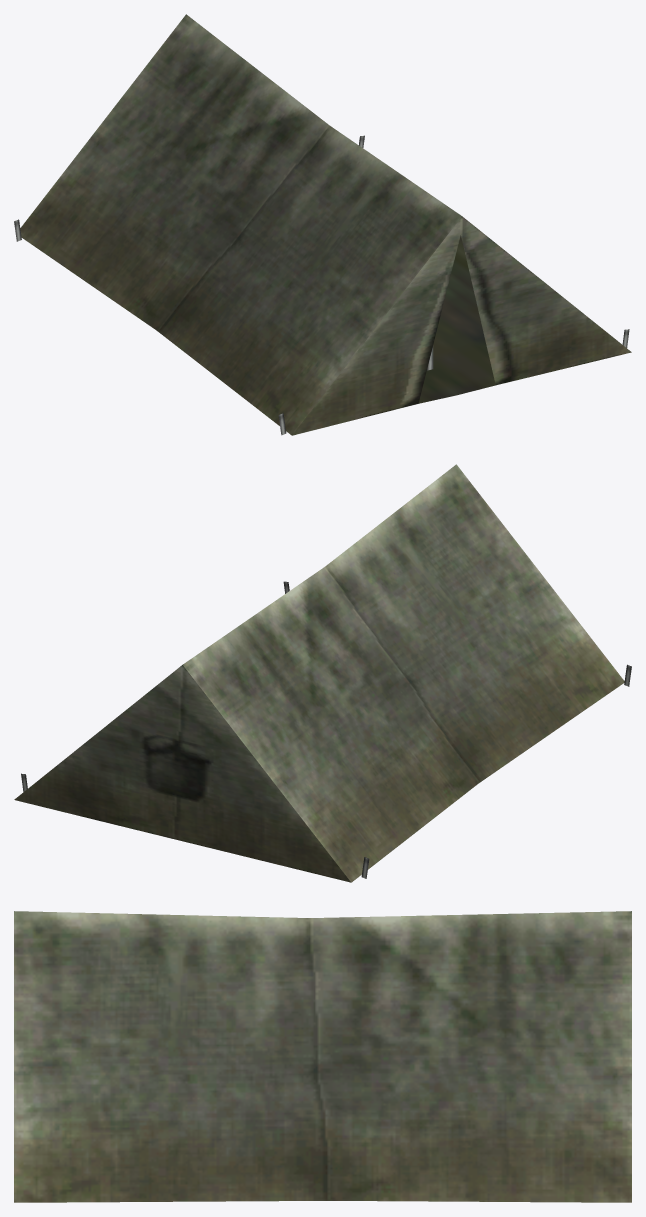
File: TENT1.glb
The picture shows the model from 3 angles, top to bottom: view 1: azimuth 30°, elevation 25°; view 2: azimuth 150°, elevation 25°; view 3: azimuth 270°, elevation 25°; orthographic projection. The views are drawn at different scales.
Visible parts, largest first — view 1: _TENT1; view 2: _TENT1; view 3: _TENT1.
Part boxes in pixels (x1,y1,x2,y2): _TENT1: [14, 14, 631, 435]; _TENT1: [14, 464, 631, 882]; _TENT1: [14, 911, 631, 1202].
Size of the model in its own units: 3.58 by 1.75 by 4.88.
1 material, 1 textured.
